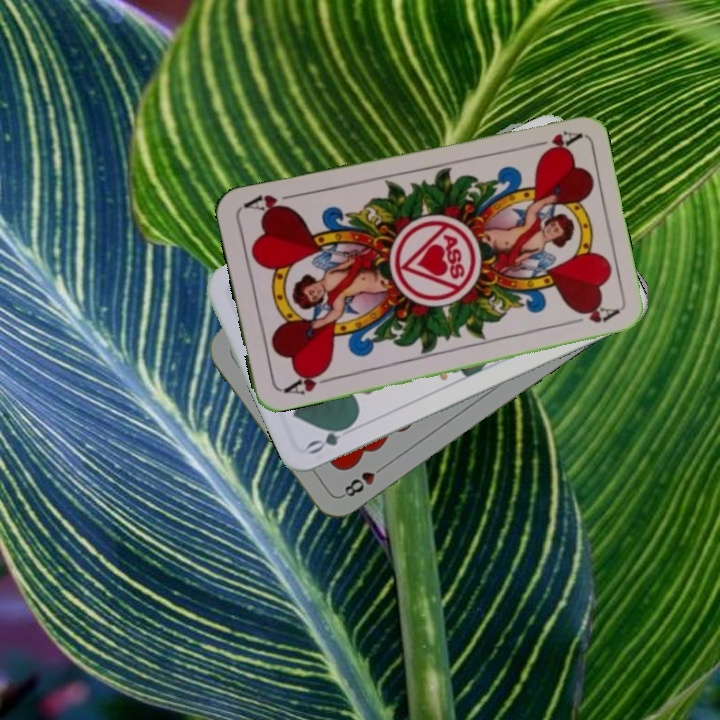GO: (302, 418, 359, 457)
H8: (337, 460, 389, 500)
HA: (278, 365, 336, 398), (523, 126, 582, 158)
